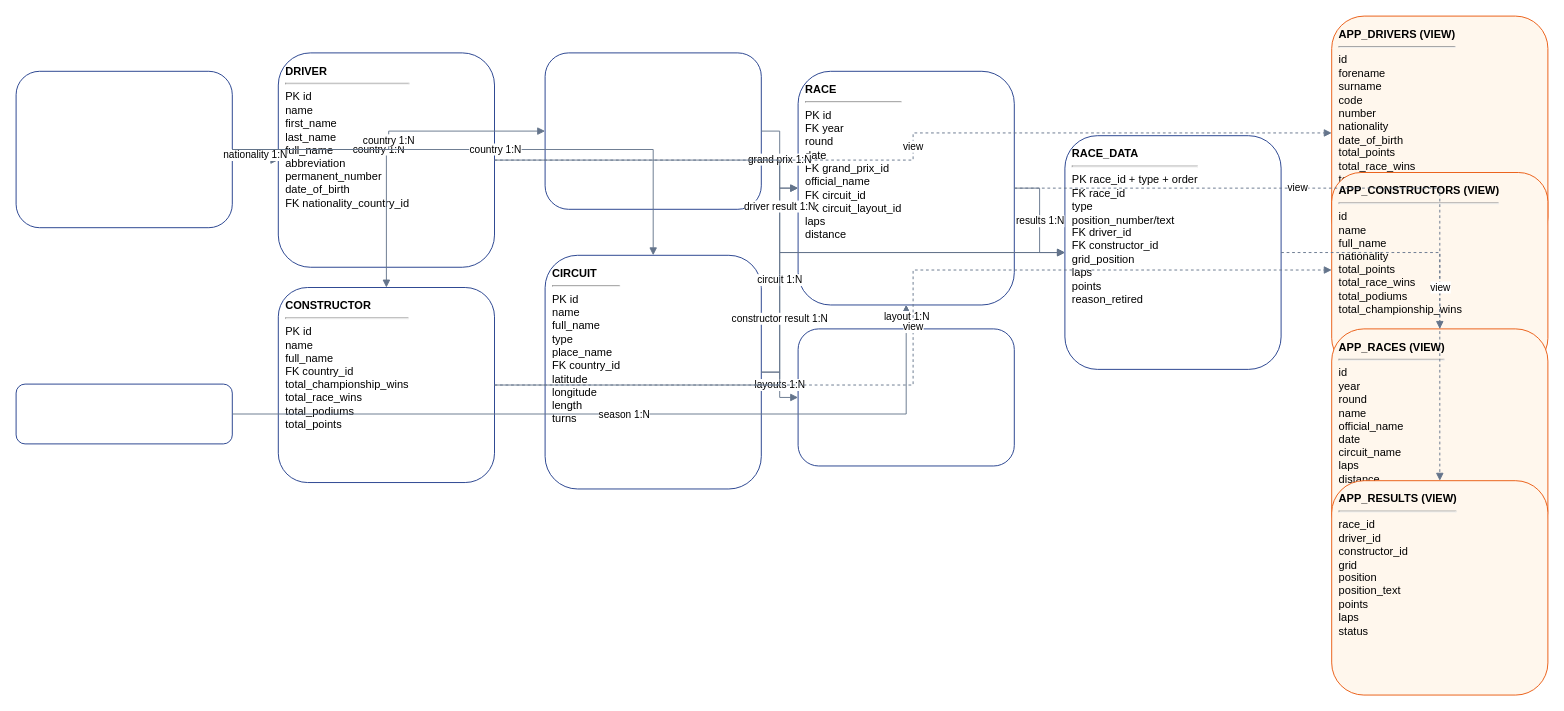
The diagram is 1564 pixels wide and 711 high, and some of its shapes have lost their labels. Each missing label, with the centre of its shape:
CIRCUIT_LAYOUT PK id FK circuit_id effective length turns: the point at 905,397
COUNTRY PK id alpha2_code alpha3_code name demonym FK continent_id: the point at 123,149
GRAND_PRIX PK id name full_name short_name abbreviation FK country_id: the point at 652,130
SEASON PK year: the point at 123,413
